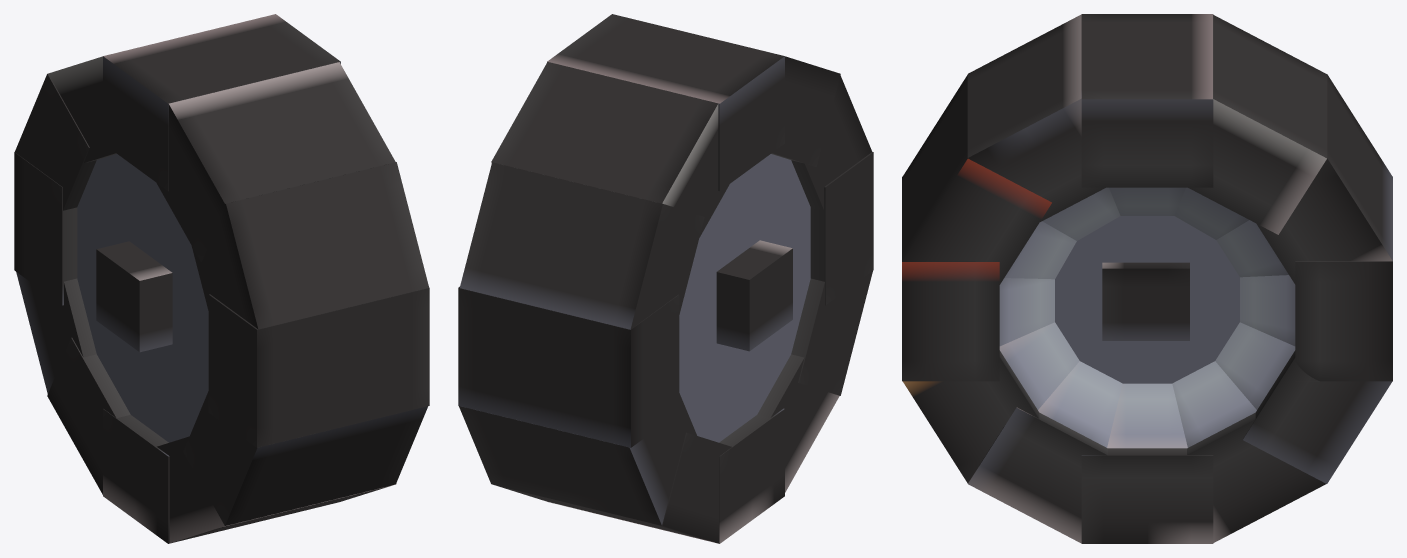
Rendered from wuling_right_wheel.obj.
3 views of the same model, side by side, from view 1: azimuth 30°, elevation 25°; view 2: azimuth 150°, elevation 25°; view 3: azimuth 270°, elevation 25° (orthographic).
Visible parts, largest first — view 1: CheLun; view 2: CheLun; view 3: CheLun.
Boxes of the visible parts, x1,y1,x2,y2 form: CheLun: (14,14,429,543); CheLun: (458,14,873,543); CheLun: (902,14,1392,543).
Size of the model in its own units: 0.4127 by 0.9092 by 0.9092.
